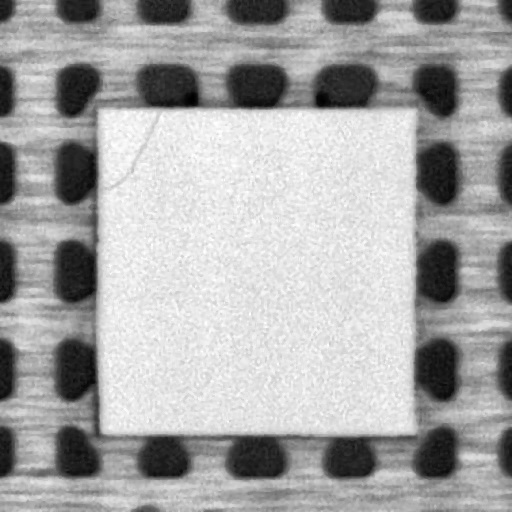DIE_CRACK: (99, 107, 162, 189)
